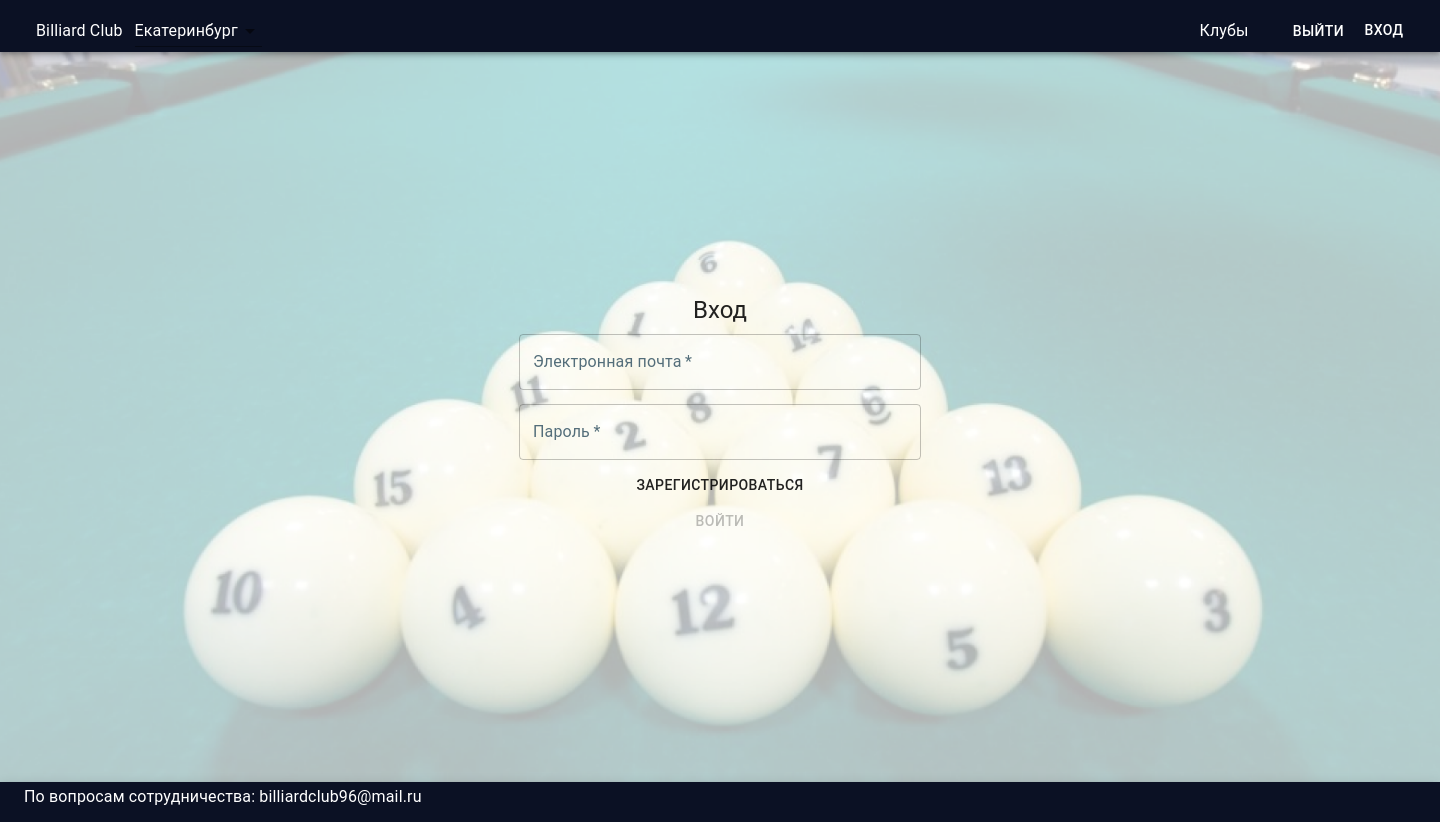
Test case: Auth tests › renders business title after successful login
The width and height of the screenshot is (1440, 822).
In the field with test id "login-input": (720, 362) [519,334,921,390], type "1"
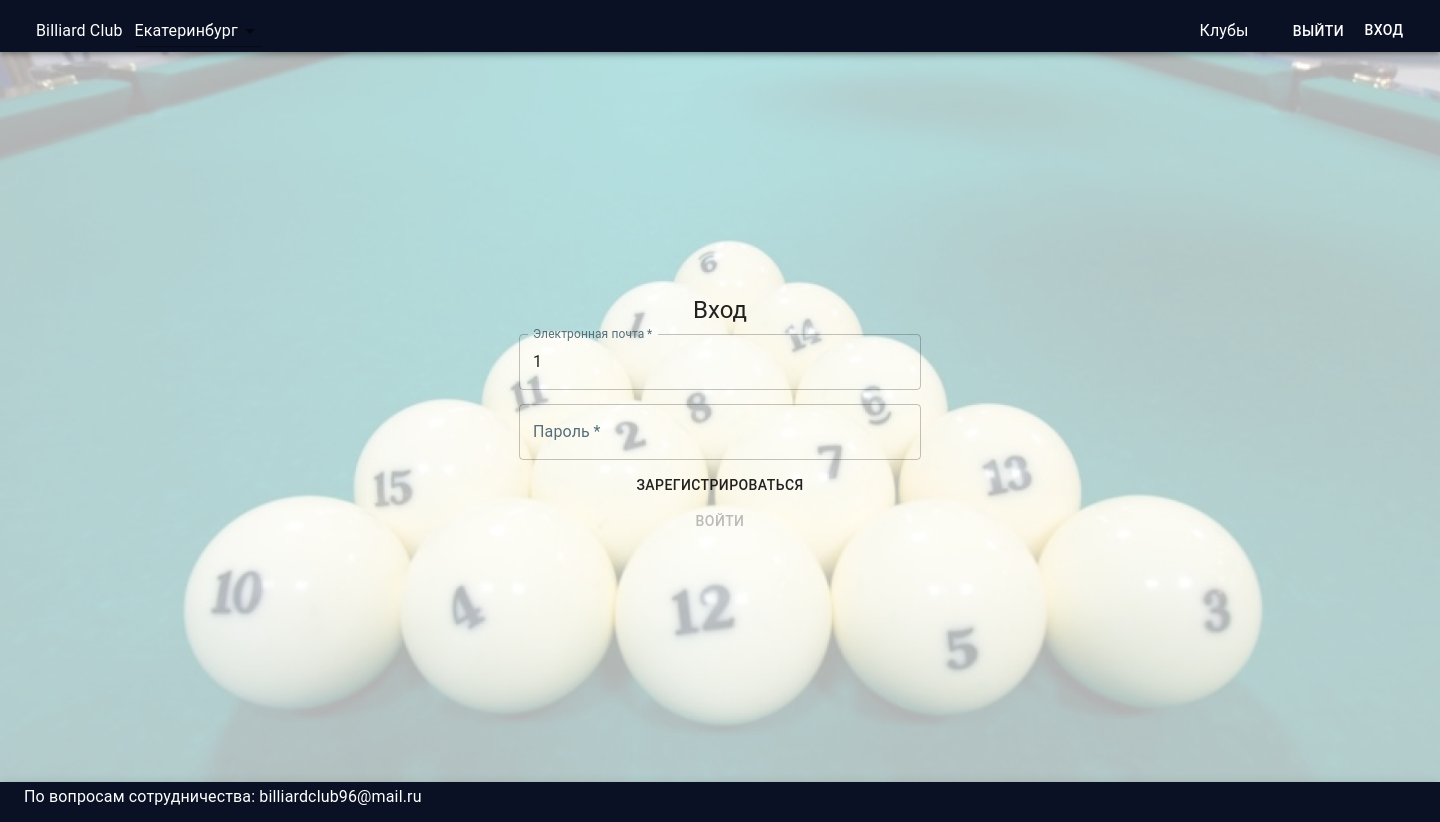
In the password field with test id "password-input": (720, 432) [519,404,921,460], type "1"
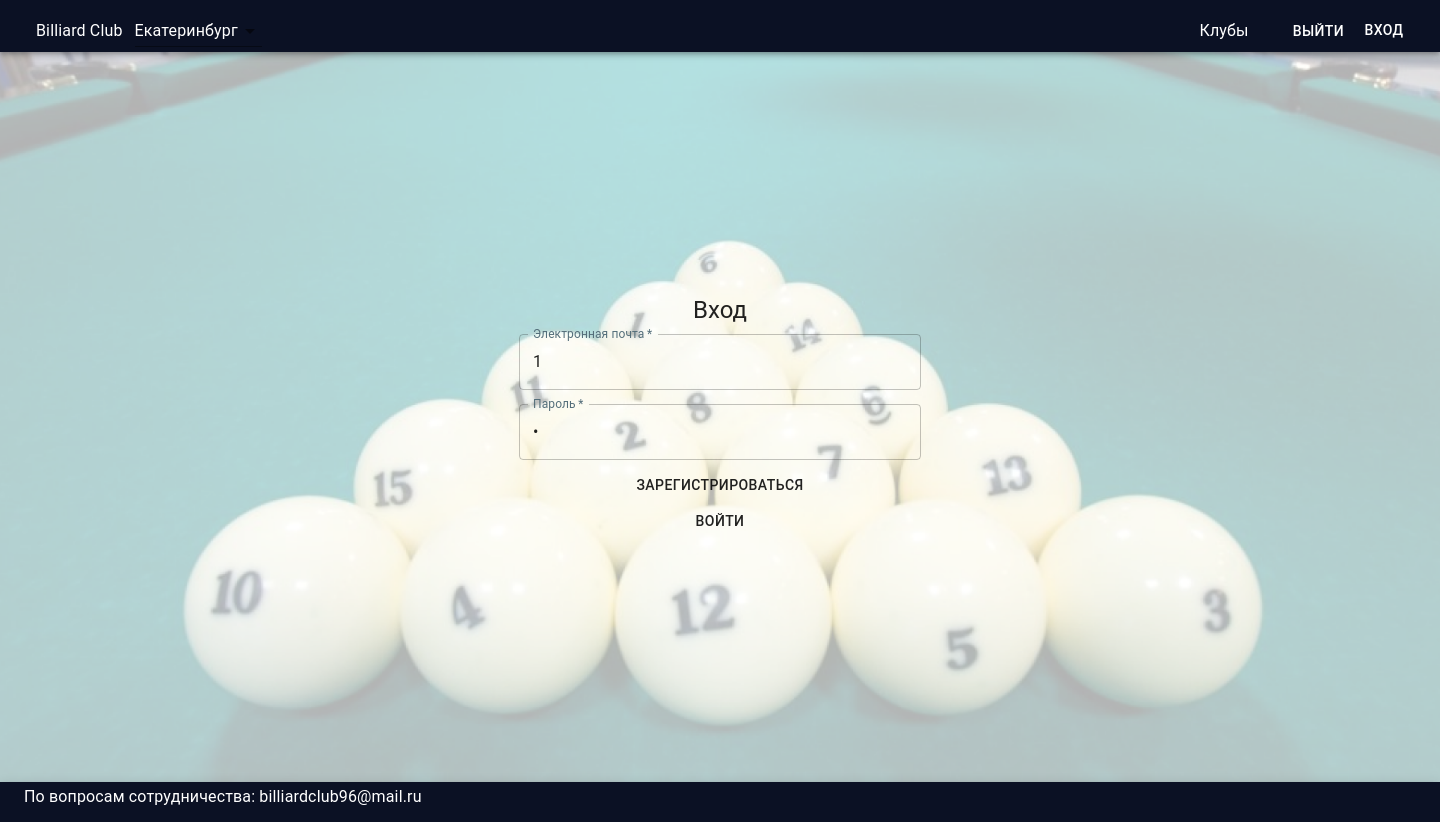
Click the button with test id "submit": (720, 521) [688,503,752,540]
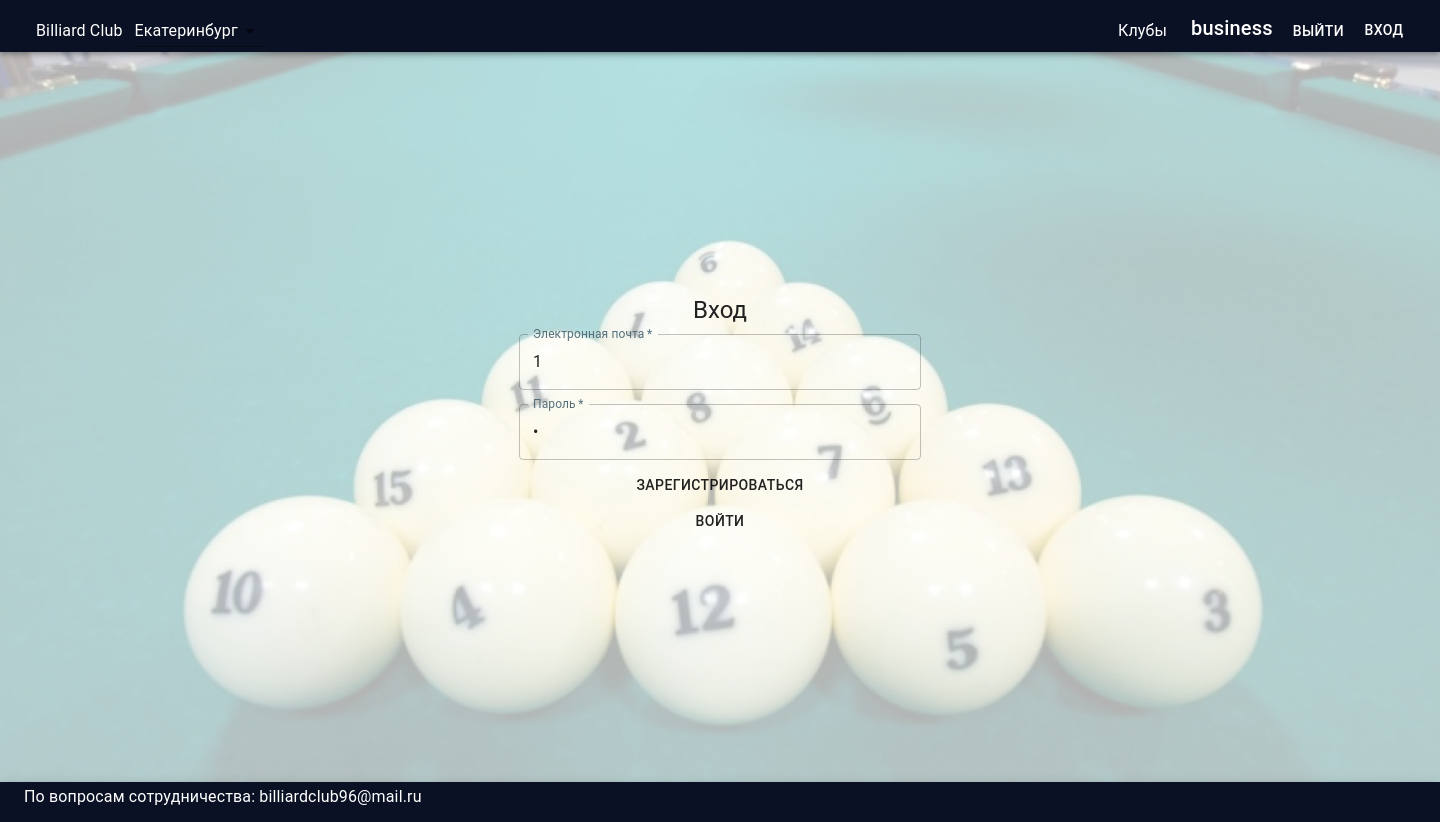
Expected: the link "business" is shown, [1191,16,1273,40]
